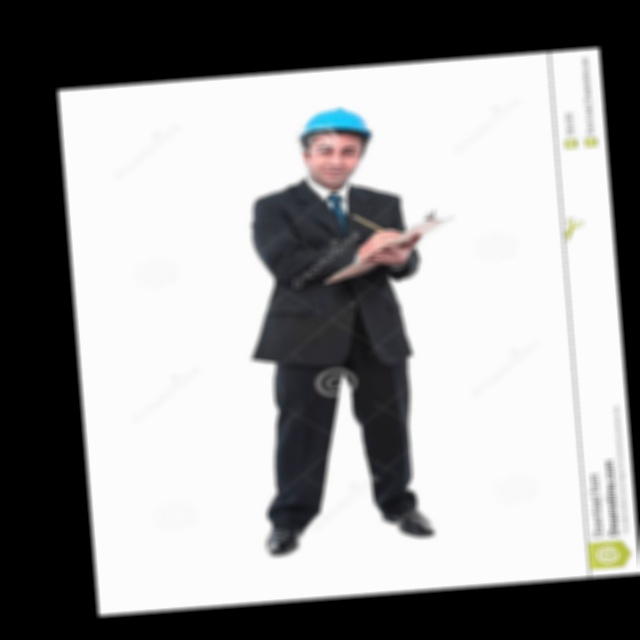Con_Casco: (296, 105, 377, 184)
Sin_Chaleco: (247, 180, 417, 365)
